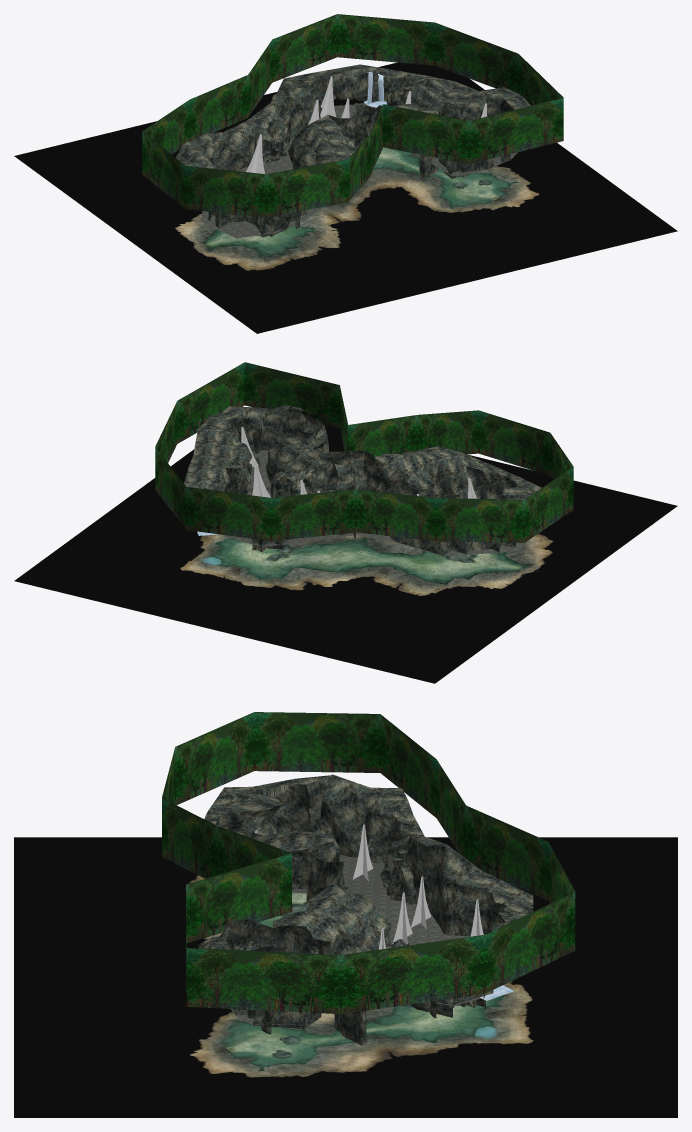
The model's file is jungle_c_zero.fbx.
The picture shows the model from 3 angles, top to bottom: view 1: azimuth 30°, elevation 25°; view 2: azimuth 150°, elevation 25°; view 3: azimuth 270°, elevation 25°; orthographic projection. The views are drawn at different scales.
Parts seen in each view (by area): view 1: minimap_0, jungle_nat_walls, jungle_rocks, ground; view 2: minimap_0, jungle_nat_walls, jungle_rocks, ground; view 3: minimap_0, jungle_nat_walls, jungle_rocks, ground.
Boxes of the visible parts, x1,y1,x2,y2 form: minimap_0: (14,62,677,333); jungle_nat_walls: (142,14,563,217); jungle_rocks: (176,64,530,237); ground: (200,103,517,238); minimap_0: (14,424,677,683); jungle_nat_walls: (155,362,573,542); jungle_rocks: (184,405,541,556); ground: (226,450,527,555); minimap_0: (14,837,677,1117); jungle_nat_walls: (162,712,575,1014); jungle_rocks: (197,774,533,1045); ground: (231,855,481,1025).
Size of the model in its own units: 150000 by 43781 by 150000.
7 materials, 7 textured.
